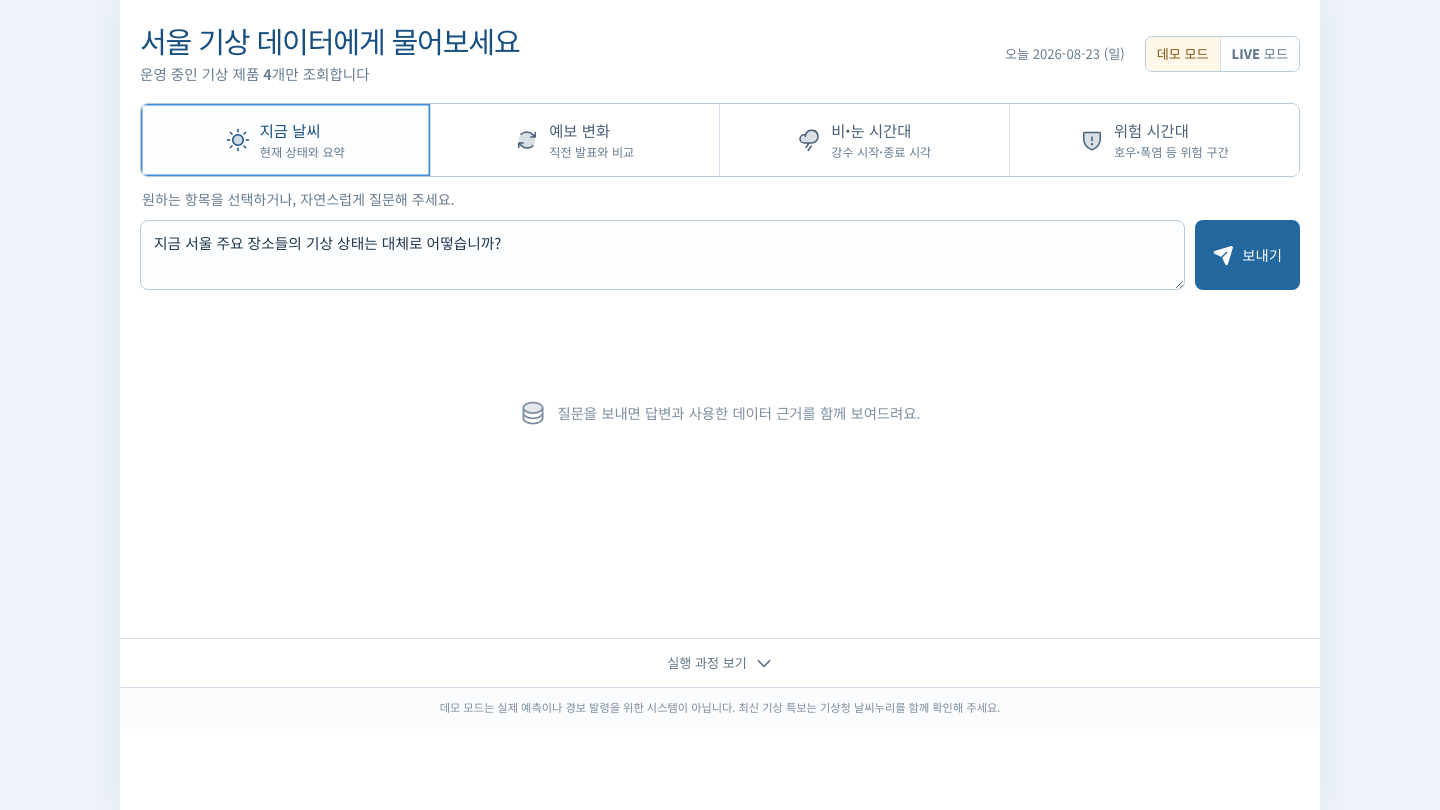
ASK Seoul 기상 에이전트 UI › 모델 요청 한도 오류를 재시도 시점을 판단할 수 있는 한국어로 안내한다
Expected: the navigation bar named "기상 질문 유형" is shown, [140,103,1300,177]
What coordinates should you click on to do the following:
click the button with aria-label "질문 보내기"
I would click on:
 (1248, 255)
Its box is [1195,220,1300,290].
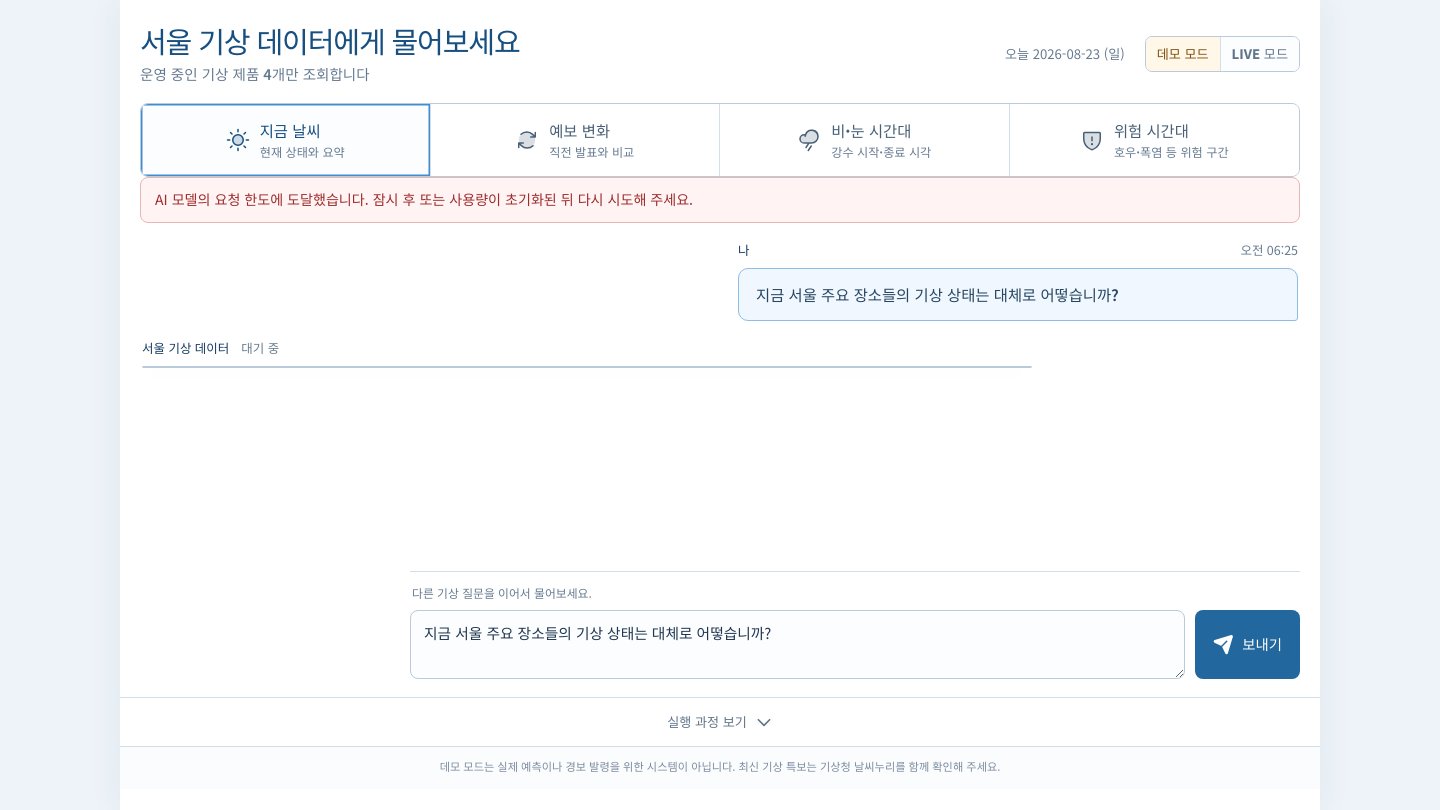
Expected: the message "AI 모델의 요청 한도에 도달했습니다. 잠시 후 또는 사용량이 초기화된 뒤 다시 시도해 주세요." does not show "Gemini provider rate limited the request.", [140,177,1300,223]
Result: the message "AI 모델의 요청 한도에 도달했습니다. 잠시 후 또는 사용량이 초기화된 뒤 다시 시도해 주세요." is shown at [140,177,1300,223]
